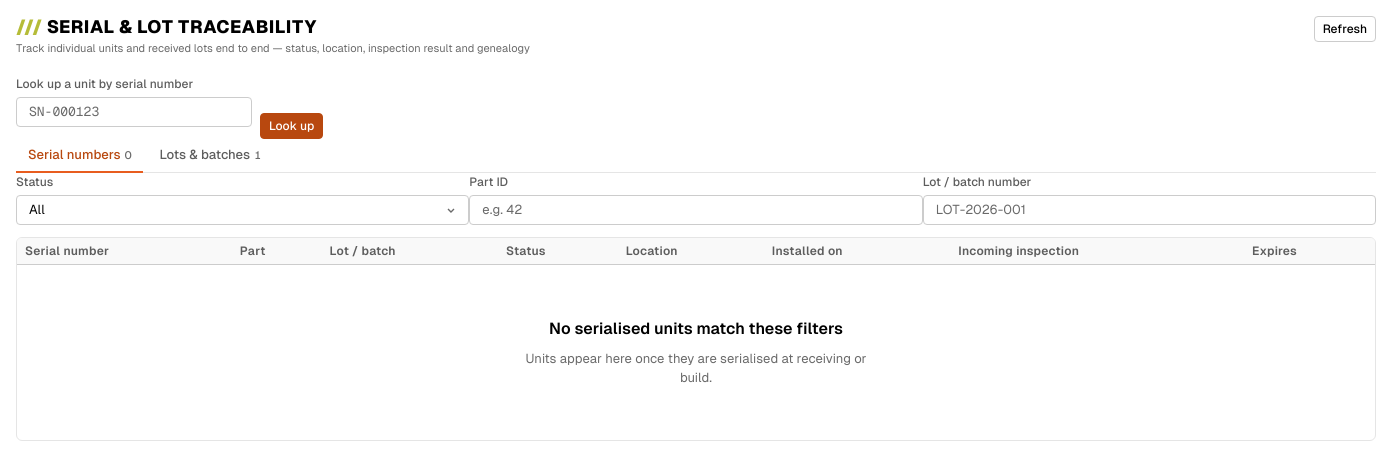
Test: TraceabilityScreen › shows the lots tab values once selected
The width and height of the screenshot is (1393, 458).
Click the tab "Lots & batches1" at (210, 156), box [147,138,273,172]
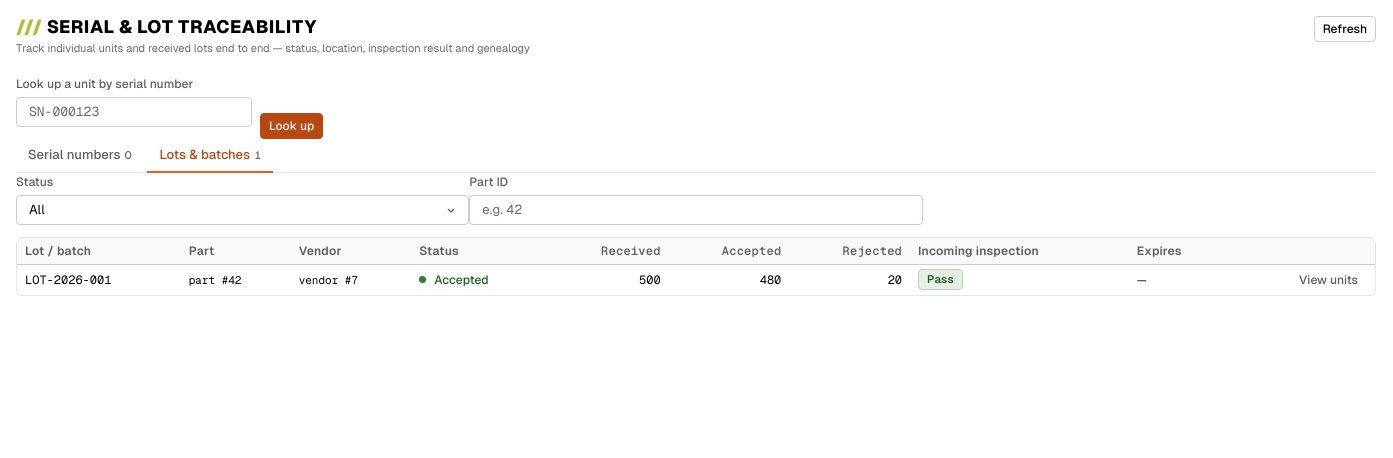
Now the text "LOT-2026-001" is shown, box [25,272,111,286]
Now the text "500" is shown, box [548,264,669,294]
Now the text "480" is shown, box [669,264,789,294]
